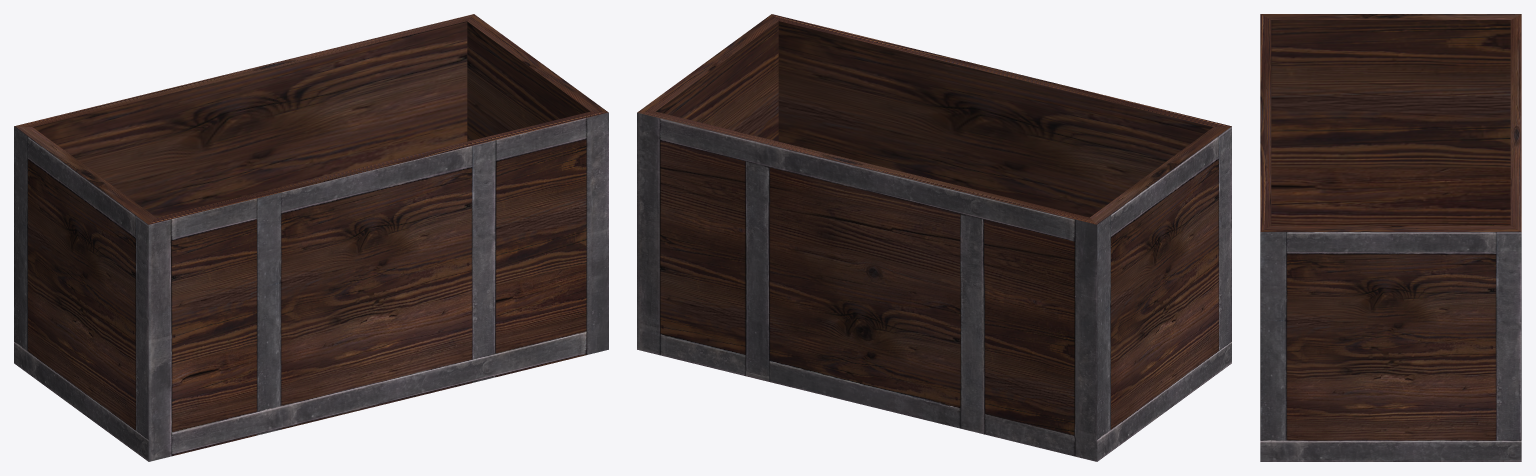
The model's file is Chest_Body_LowPolygon.fbx.
The picture shows the model from 3 angles, left to right: view 1: azimuth 30°, elevation 25°; view 2: azimuth 150°, elevation 25°; view 3: azimuth 270°, elevation 25°; orthographic projection. The views are drawn at different scales.
Parts seen in each view (by area): view 1: Chest_Body_LowPolygon; view 2: Chest_Body_LowPolygon; view 3: Chest_Body_LowPolygon.
Boxes of the visible parts, left/top/right/bottom form: Chest_Body_LowPolygon: left=14, top=14, right=608, bottom=461; Chest_Body_LowPolygon: left=637, top=14, right=1231, bottom=461; Chest_Body_LowPolygon: left=1260, top=14, right=1521, bottom=461.
Size of the model in its own units: 1.3 by 0.6412 by 0.66.
